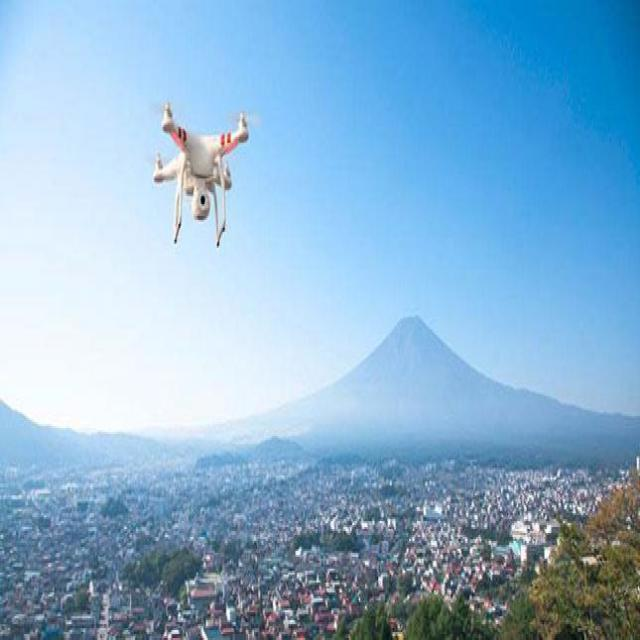drone: (148, 100, 252, 250)
